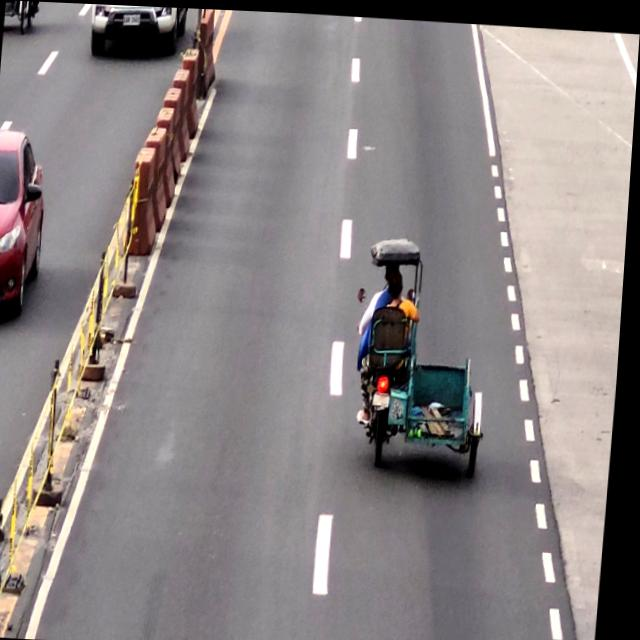Tricycle: (358, 232, 498, 464)
